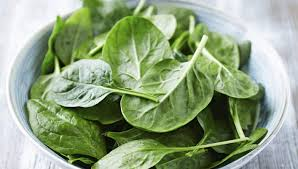spinach: (70, 21, 219, 149)
